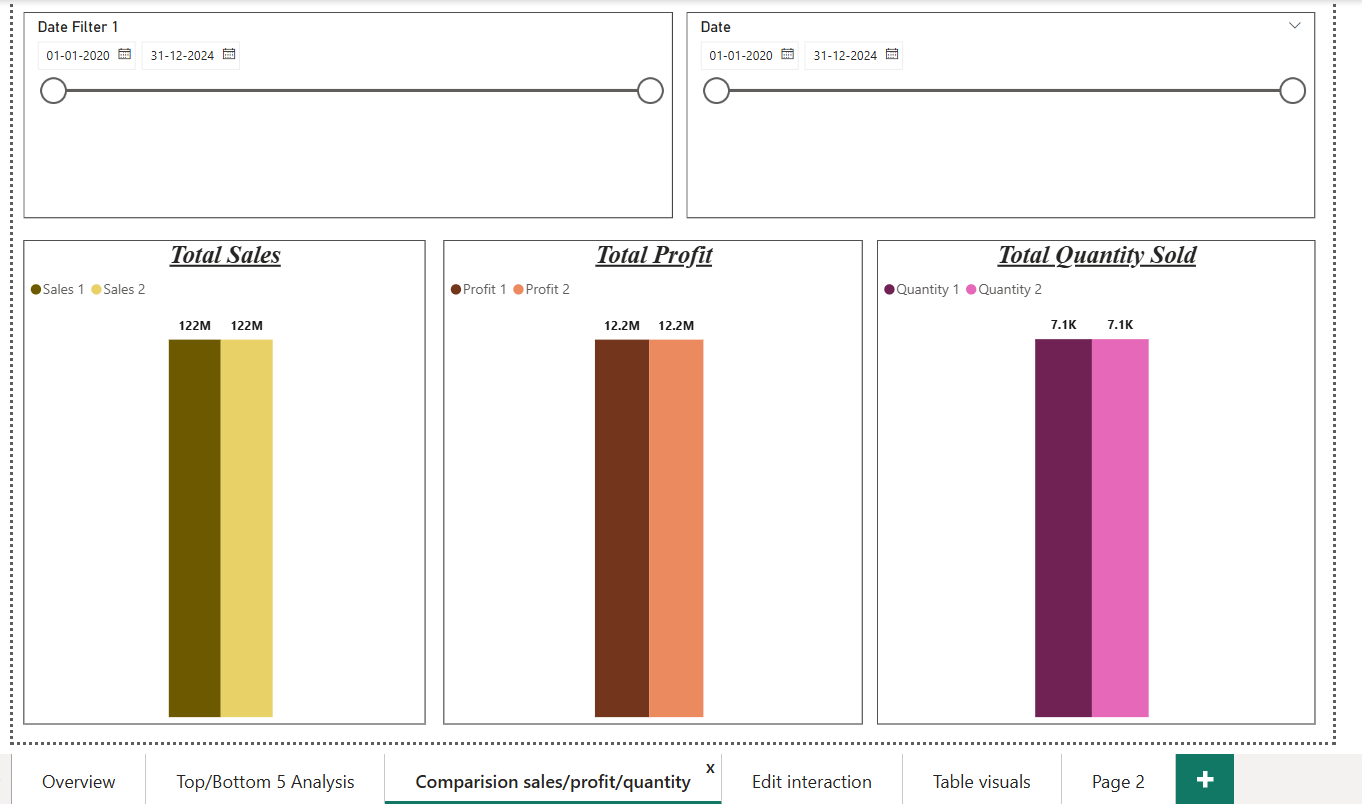

This screenshot's page, from the dashboard's own definition file:
{"tool":"powerbi","page":{"name":"Comparision sales/profit/quantity","canvas":[1280,720],"ordinal":2},"visuals":[{"type":"slicer","fields":{"Values":["Date Table 1.Date"]},"box":[10,11.7,630,200],"z":0},{"type":"slicer","fields":{"Values":["Date Table 2.Date"]},"box":[653.3,11.7,610,200],"z":1000},{"type":"clusteredColumnChart","title":"Total Sales","fields":{"Y":["Date Table 1.Sum of new Sales","Sum(Fact Table.Net Sales  )"]},"box":[10,233.3,390,470],"z":2000},{"type":"clusteredColumnChart","title":"Total Profit","fields":{"Y":["Sum(Fact Table.Profit)","Measures Table.Total profit"]},"box":[418.3,233.3,406.7,470],"z":3000},{"type":"clusteredColumnChart","title":"Total Quantity Sold","fields":{"Y":["Sum(Fact Table.Units Sold)","Measures Table.Quantity Sold"]},"box":[838.3,233.3,425,470],"z":4000}]}

Visuals, with their boxes on the page's 1280x720 design canvas (x1, y1, x2, y2). These are canvas units, not pixel positions in the 1362x804 screenshot, which may show the page scaled, cropped or inside an application window:
slicer - Date Table 1.Date: [10,12,640,212]
slicer - Date Table 2.Date: [653,12,1263,212]
"Total Sales" clusteredColumnChart: [10,233,400,703]
"Total Profit" clusteredColumnChart: [418,233,825,703]
"Total Quantity Sold" clusteredColumnChart: [838,233,1263,703]
